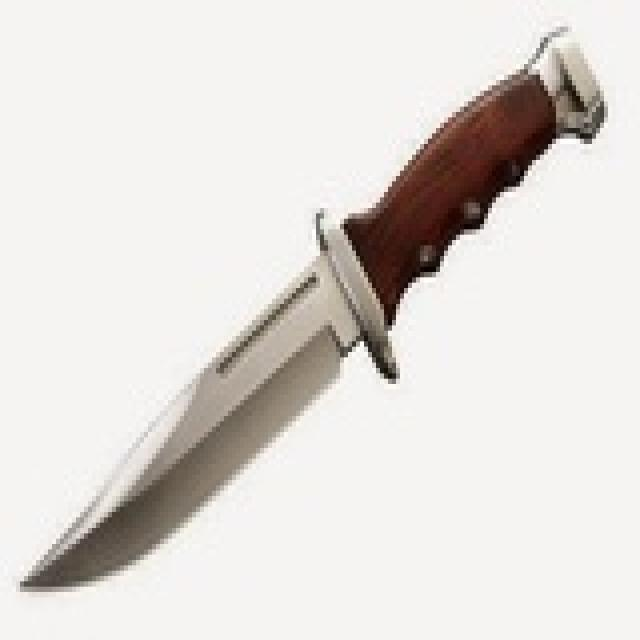Knife: (5, 26, 612, 615)
